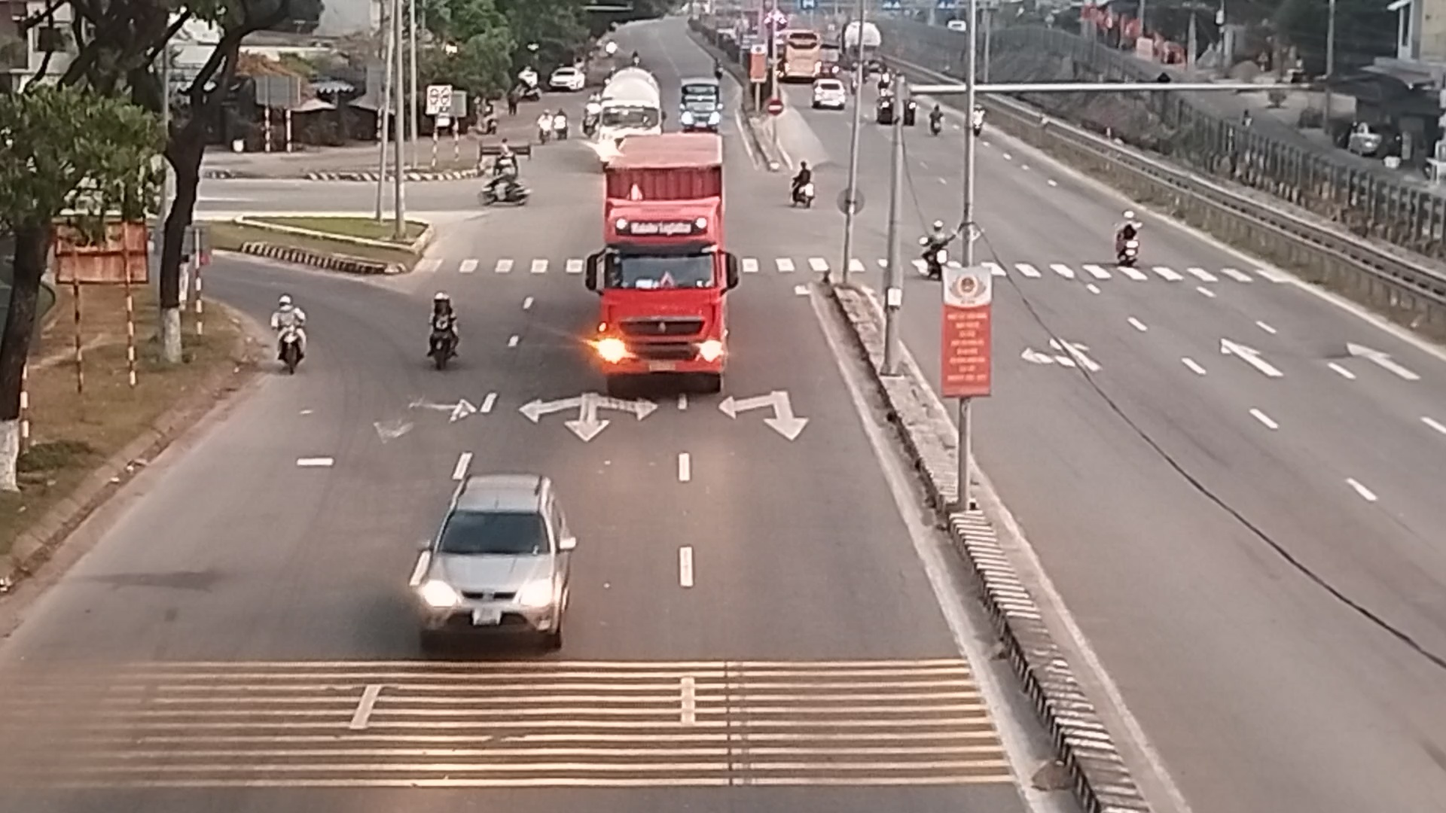Car: (411, 472, 577, 644), (594, 66, 665, 173), (1347, 121, 1382, 156), (812, 78, 846, 110), (537, 107, 569, 140), (549, 66, 586, 91), (518, 65, 539, 88)
Motor: (271, 295, 307, 374), (428, 292, 459, 370), (917, 220, 949, 280), (1115, 211, 1141, 265), (791, 161, 814, 208)
Truck: (588, 129, 743, 393)
